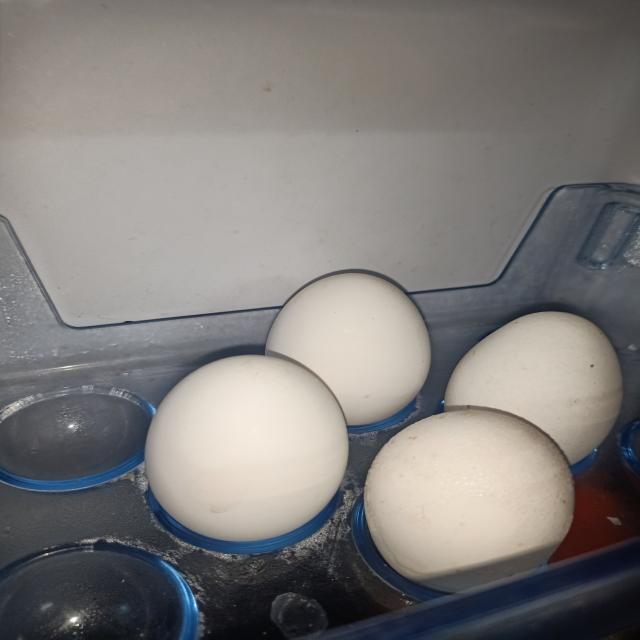Egg: (145, 355, 348, 555), (365, 410, 574, 593), (445, 312, 623, 464), (265, 273, 431, 426)
